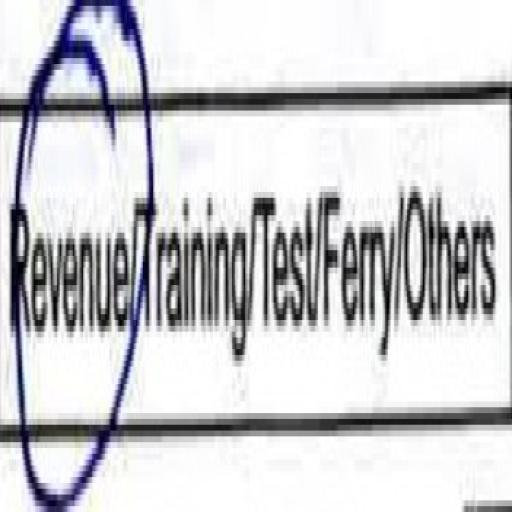check: (0, 0, 133, 512)
